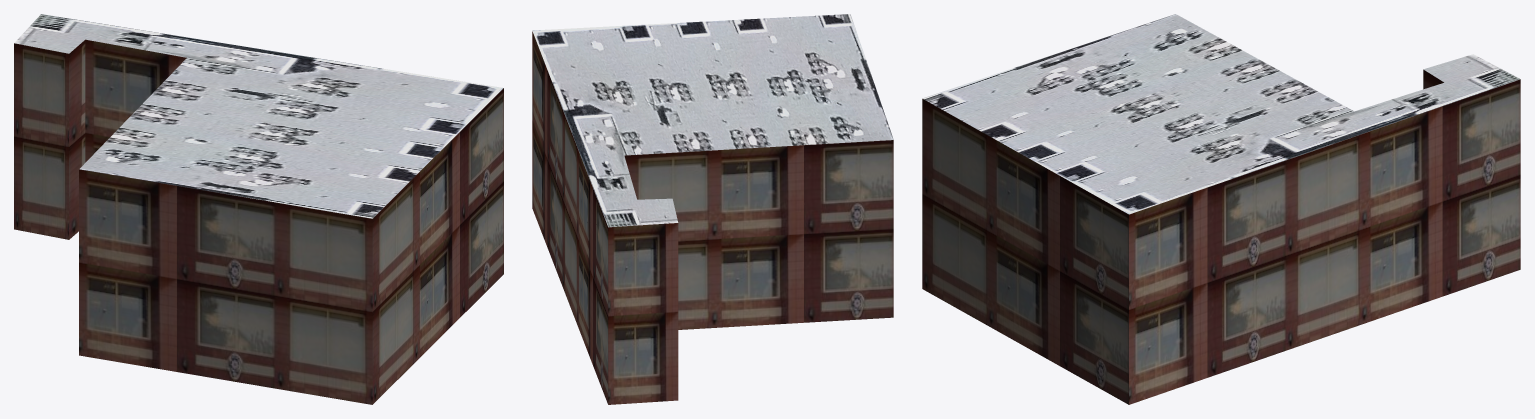
File: ResTex__33.fbx
3 renders of one model, left to right at view 1: azimuth 30°, elevation 25°; view 2: azimuth 150°, elevation 25°; view 3: azimuth 270°, elevation 25°, orthographic. The views are drawn at different scales.
Parts seen in each view (by area): view 1: CityEngineMaterial_13_m, CityEngineMaterial_4_m; view 2: CityEngineMaterial_13_m, CityEngineMaterial_4_m; view 3: CityEngineMaterial_13_m, CityEngineMaterial_4_m.
Part boxes in pixels (bbox=[...]): CityEngineMaterial_13_m: bbox=[14, 39, 503, 404]; CityEngineMaterial_4_m: bbox=[14, 14, 503, 218]; CityEngineMaterial_13_m: bbox=[532, 31, 893, 404]; CityEngineMaterial_4_m: bbox=[532, 14, 893, 227]; CityEngineMaterial_13_m: bbox=[922, 69, 1520, 404]; CityEngineMaterial_4_m: bbox=[922, 14, 1520, 214].
Bounding box in the file's own units: 13.55 × 6 × 17.1.
Materials: 2 (2 with a texture image).
